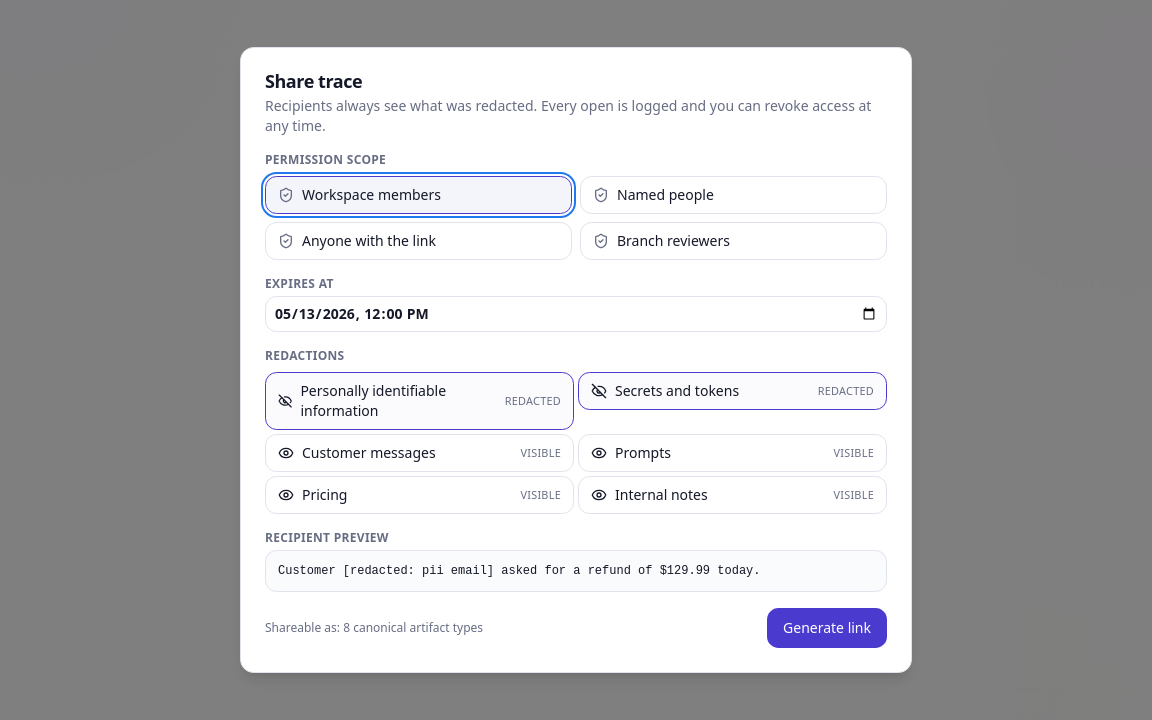
Test case: ShareDialog › shows backend-required errors for workspace share links
This screenshot has width=1152, height=720.
Click the button with test id "share-generate" at [827, 628], box [767,608,887,648]
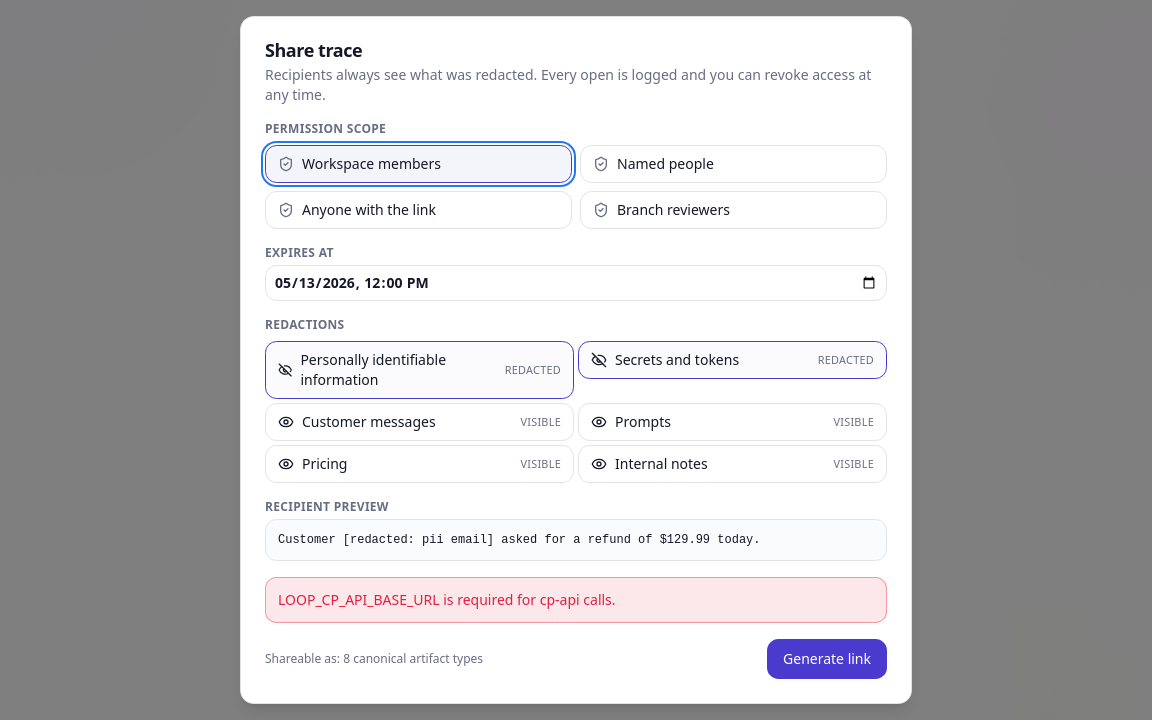
Expected: the text "LOOP_CP_API_BASE_URL is required for cp-api calls." is shown, [265,577,887,623]
